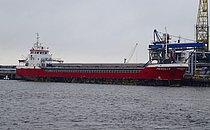Ship: (13, 29, 191, 87)
